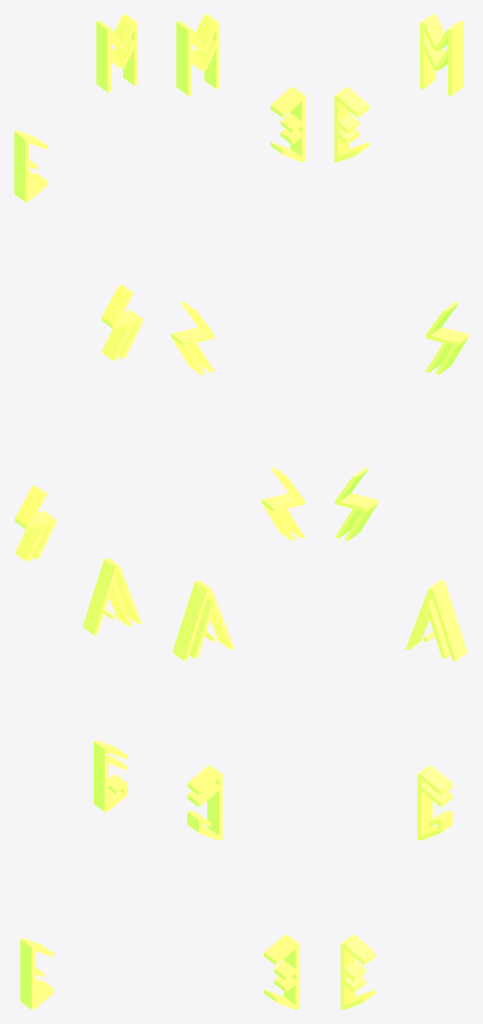
Rendered from mess.glb.
3 renders of one model, left to right at view 1: azimuth 30°, elevation 25°; view 2: azimuth 210°, elevation 25°; view 3: azimuth 330°, elevation 25°, orthographic. The views are drawn at different scales.
Visible parts, largest first — view 1: Texte.004; view 2: Texte.004; view 3: Texte.004.
Part boxes in pixels (x1=…): Texte.004: x1=14, y1=14, x2=142, y2=1009; Texte.004: x1=171, y1=14, x2=305, y2=1009; Texte.004: x1=334, y1=14, x2=468, y2=1009.
Bounding box in the file's own units: 0.6906 × 5.41 × 0.1145.
